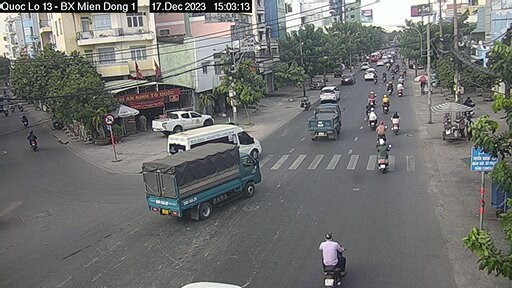car: (164, 125, 279, 157), (152, 106, 208, 124)
motorbike: (312, 236, 356, 282), (375, 137, 395, 179), (375, 117, 394, 148)
truck: (134, 156, 272, 214), (297, 96, 350, 145)
